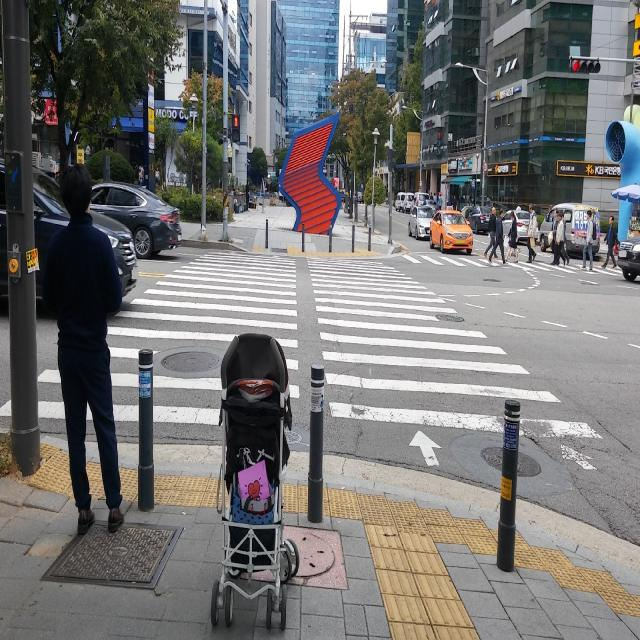빨간불: (232, 113, 241, 143)
횡단보도: (24, 247, 606, 482)
